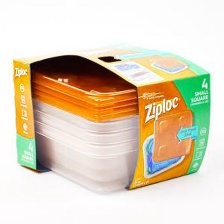plastic_box: (7, 33, 216, 199)
